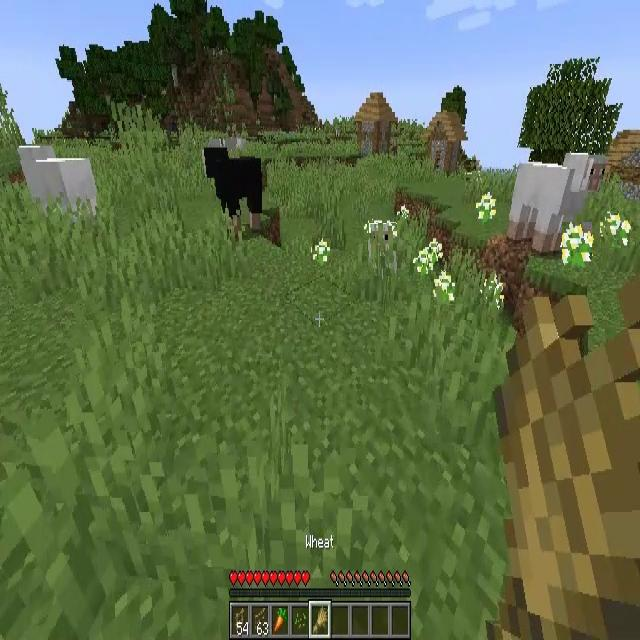flower: (562, 222, 592, 268), (600, 211, 630, 248), (480, 274, 505, 312), (432, 271, 456, 305), (476, 194, 496, 223), (312, 238, 330, 268), (414, 249, 434, 275), (430, 239, 443, 261)
sheep: (508, 154, 606, 253), (18, 146, 96, 224), (204, 150, 262, 233), (368, 223, 397, 276)
